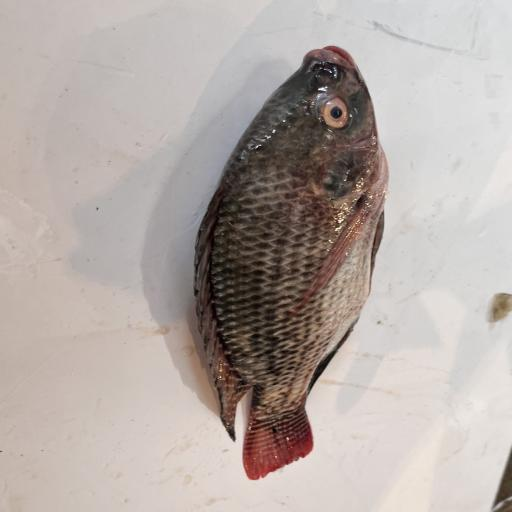Tilapia: (193, 46, 391, 481)
